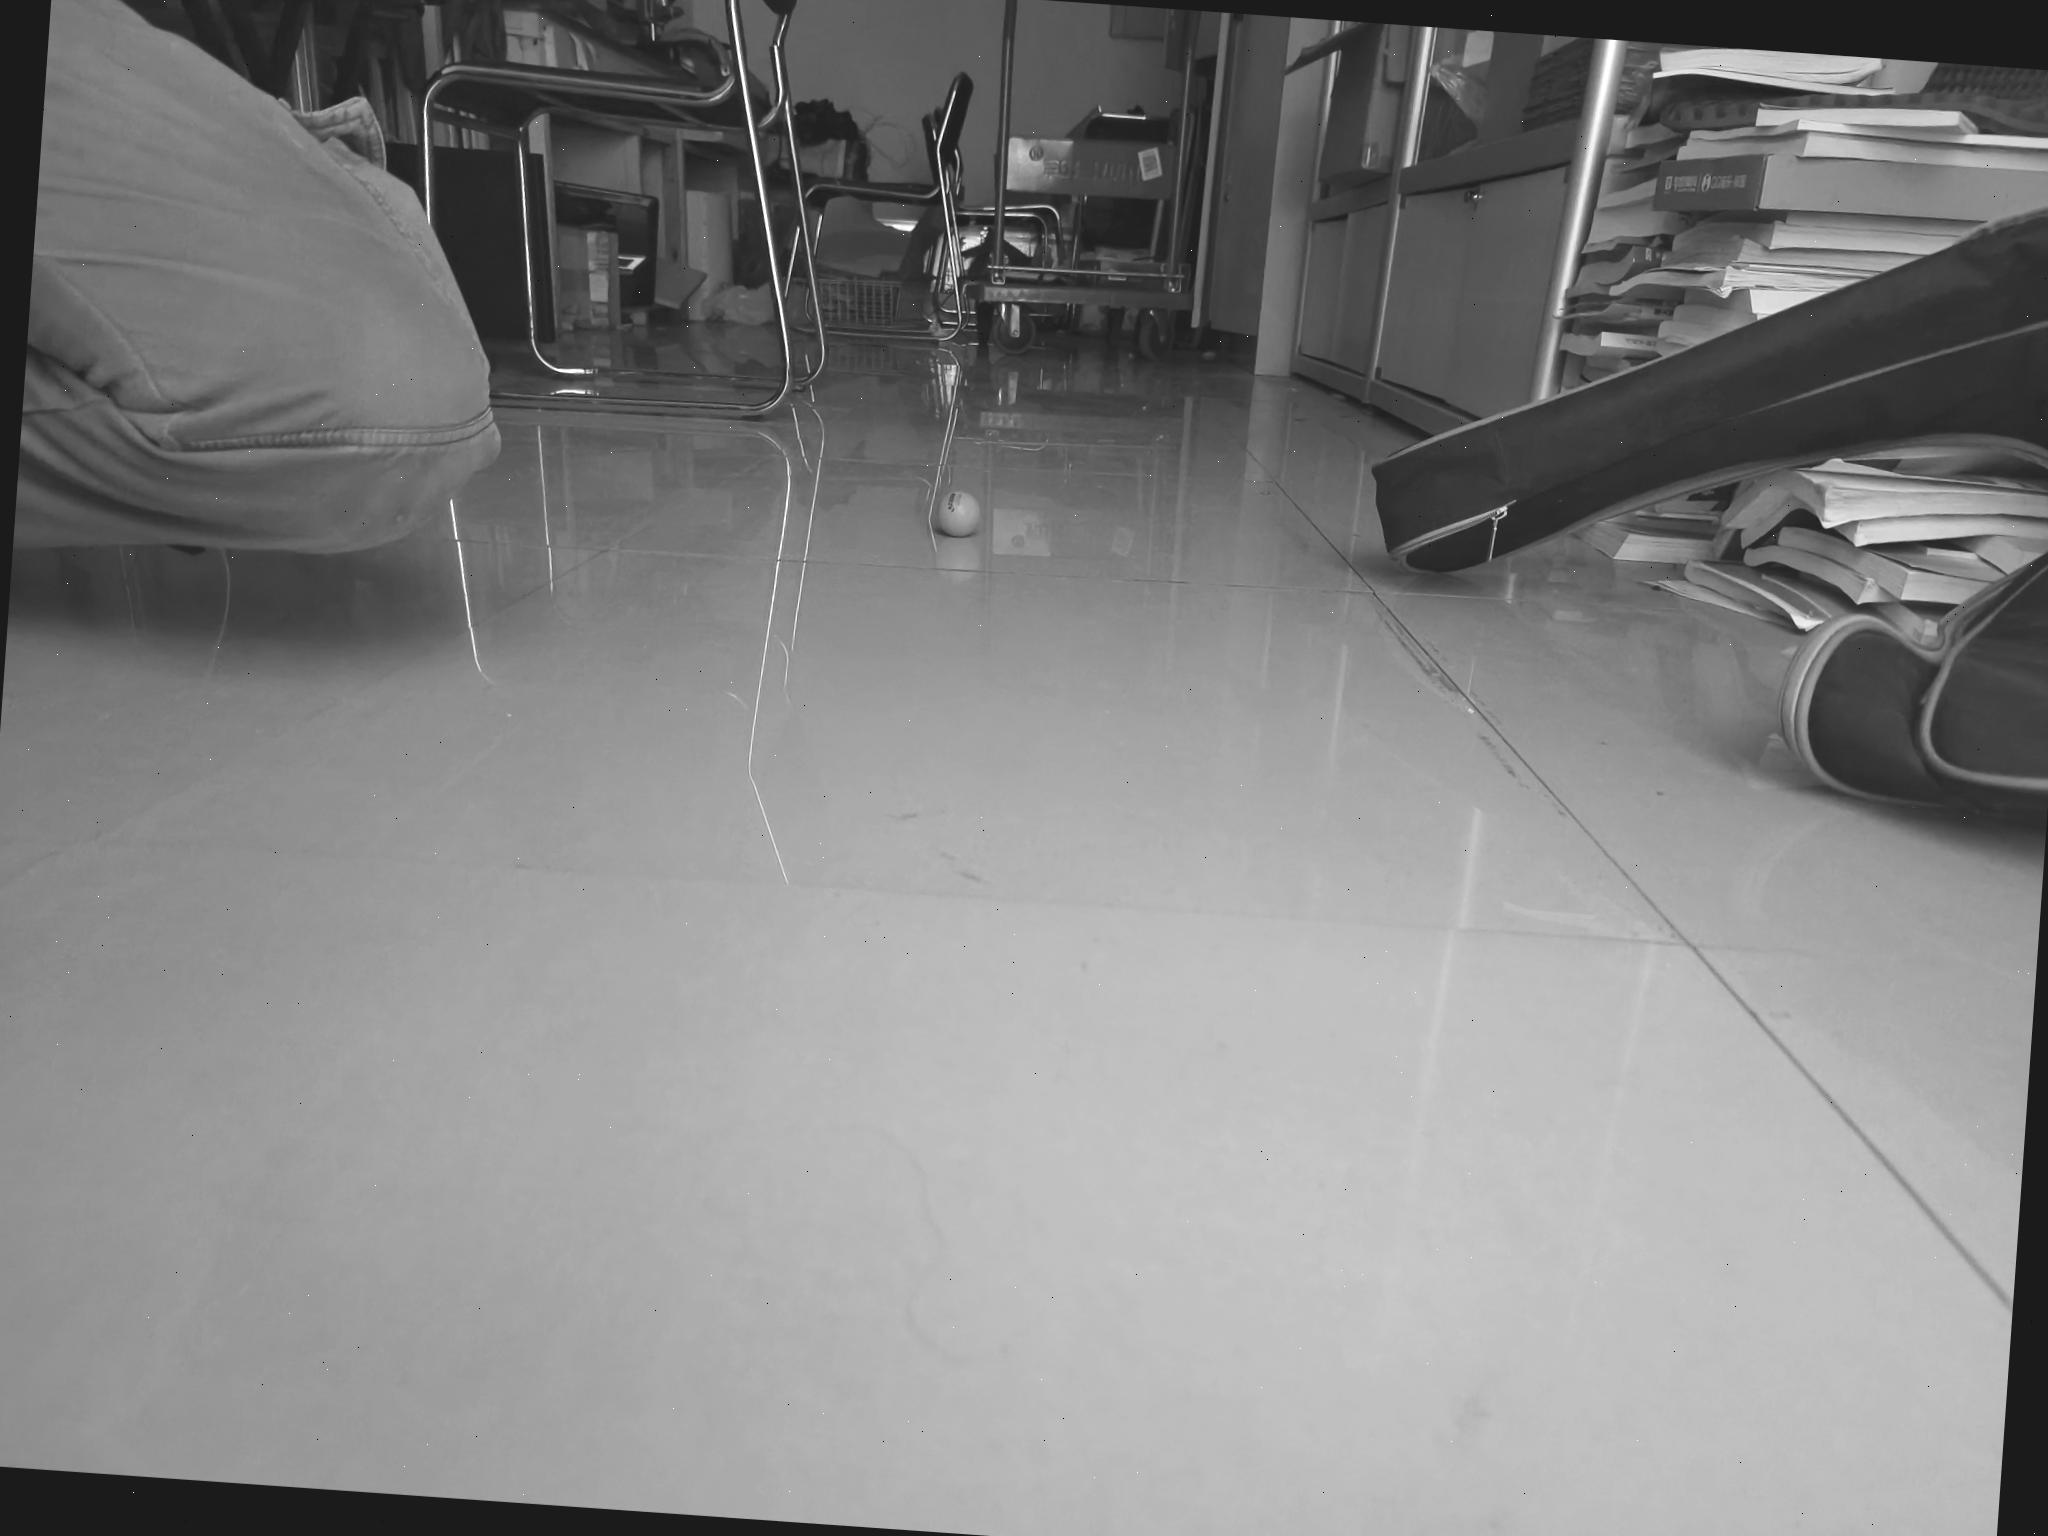ball: (937, 490, 982, 537)
